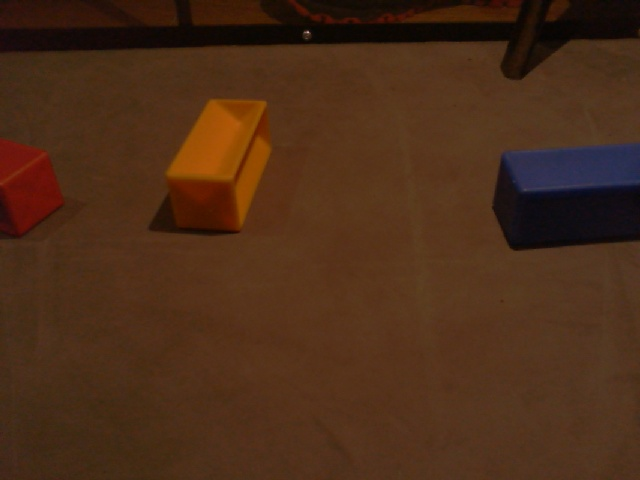BlueSample: (490, 142, 640, 252)
RedSample: (1, 131, 65, 239)
YellowSample: (162, 96, 272, 241)
